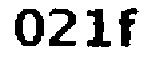0: (12, 6, 45, 51)
1: (82, 1, 113, 52)
2: (47, 5, 81, 51)
f: (116, 3, 139, 50)
